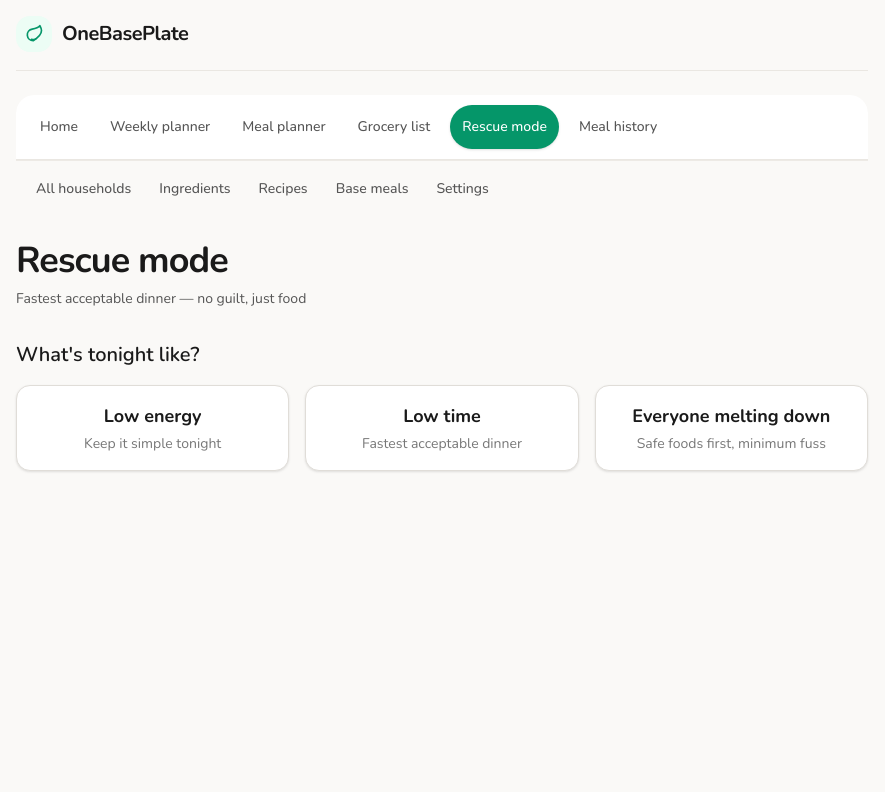
F012: RescueMode page — rescue results › can change scenario after picking one
The image size is (885, 792).
Click the button with test id "scenario-low-time" at [442, 428], box [305,385,579,471]
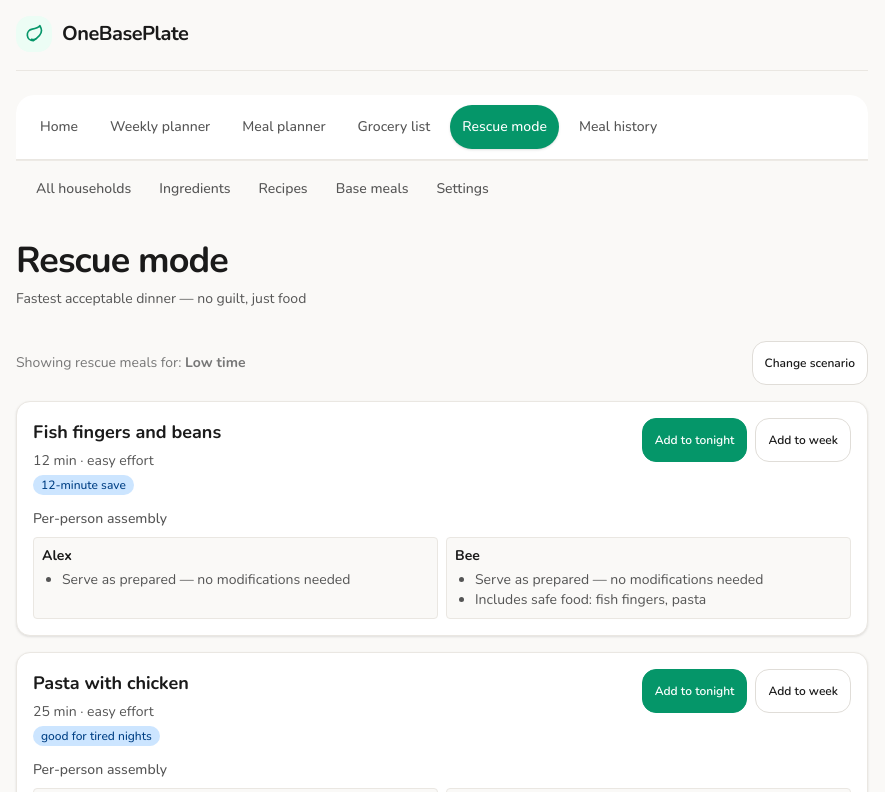
Expected: the element with test id "scenario-label" shows "Low time", [185,353,246,372]
Click the button with test id "change-scenario" at [810, 363], box [752,341,868,385]
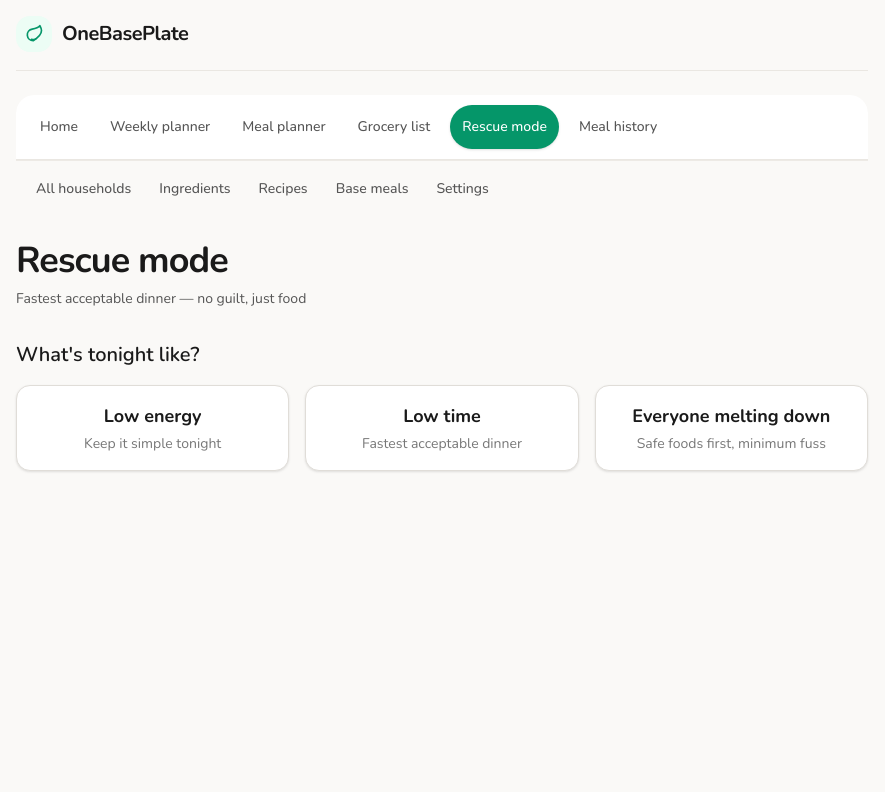
Expected: the element with test id "scenario-picker" is shown, [16,385,868,471]
